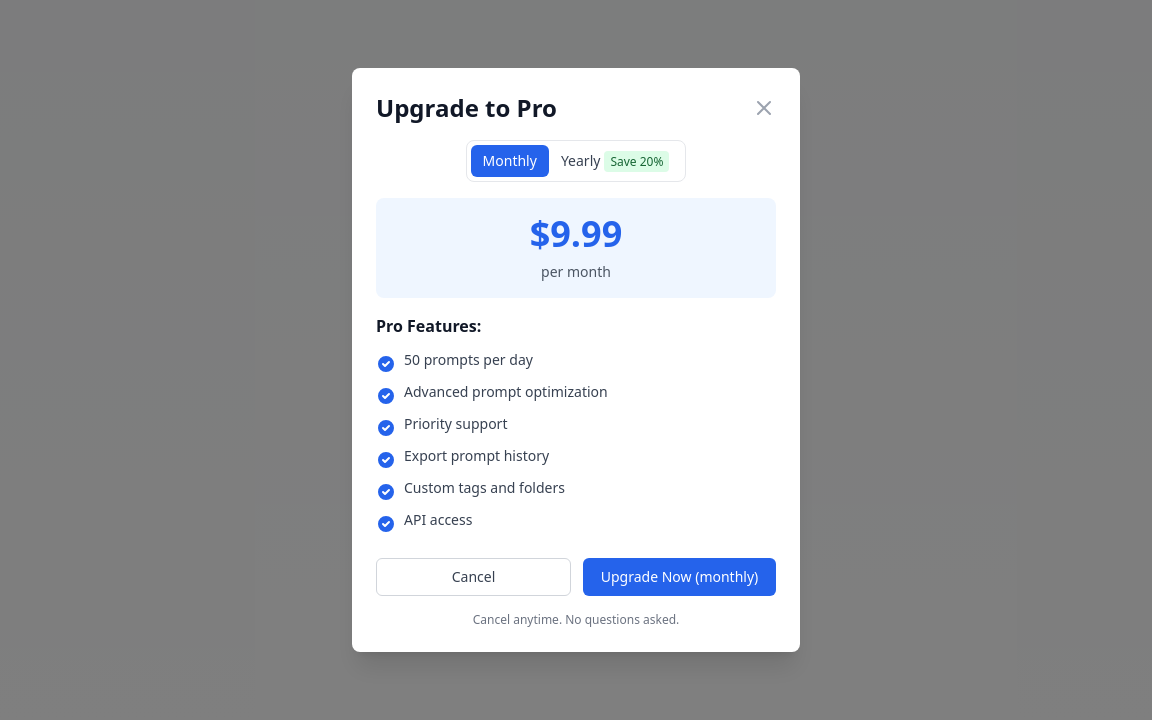
Test: UpgradeModal › should handle payment verification failure
Click the button "Upgrade Now (monthly)" at [680, 577], box [583,558,776,596]
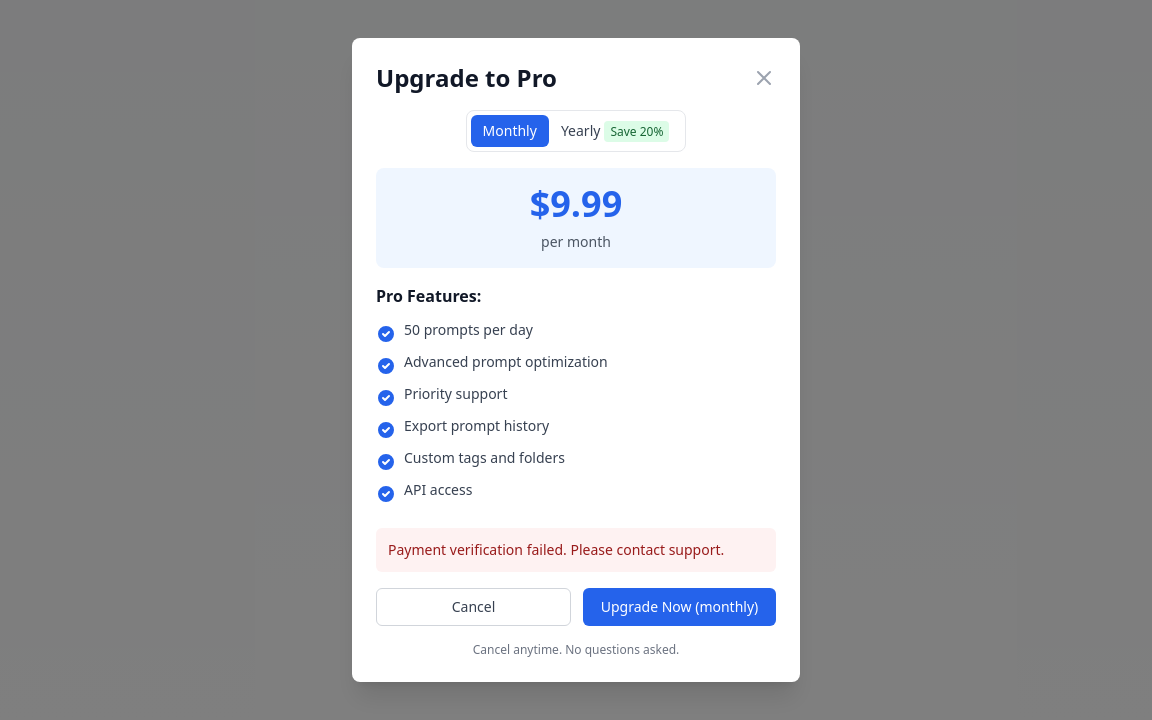
Now the text "Payment verification failed. Please contact support." is shown, box [388,540,764,560]
